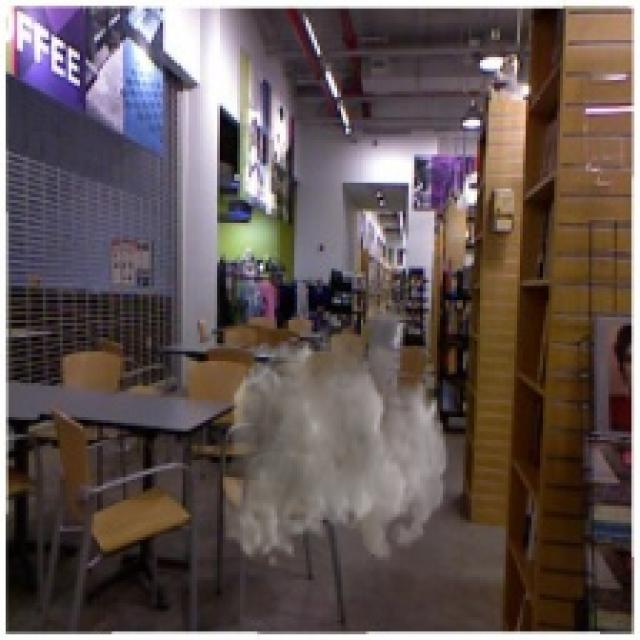smoke: (220, 308, 449, 568)
